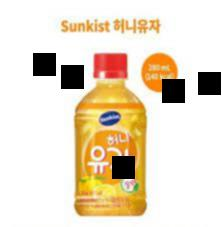honeyyuja: (73, 52, 147, 219)
